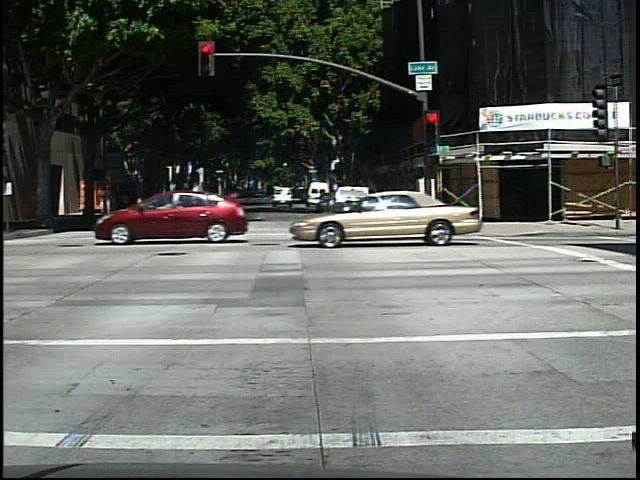person: (94, 184, 121, 225)
